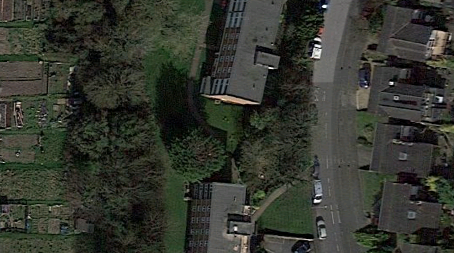tree: (79, 62, 156, 111), (165, 132, 230, 185)
